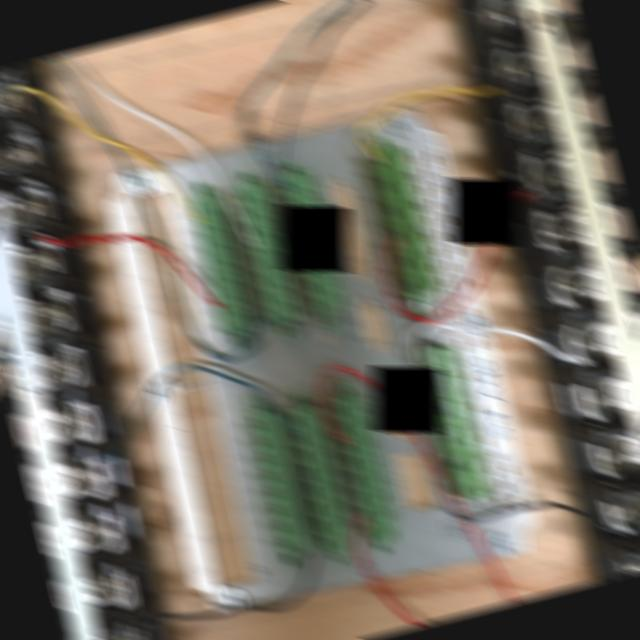Terminal_1: (418, 341, 492, 504), (367, 141, 441, 299)
Terminal_2: (330, 392, 400, 547), (286, 402, 355, 556), (277, 165, 347, 314), (232, 176, 300, 325), (188, 187, 254, 336)
